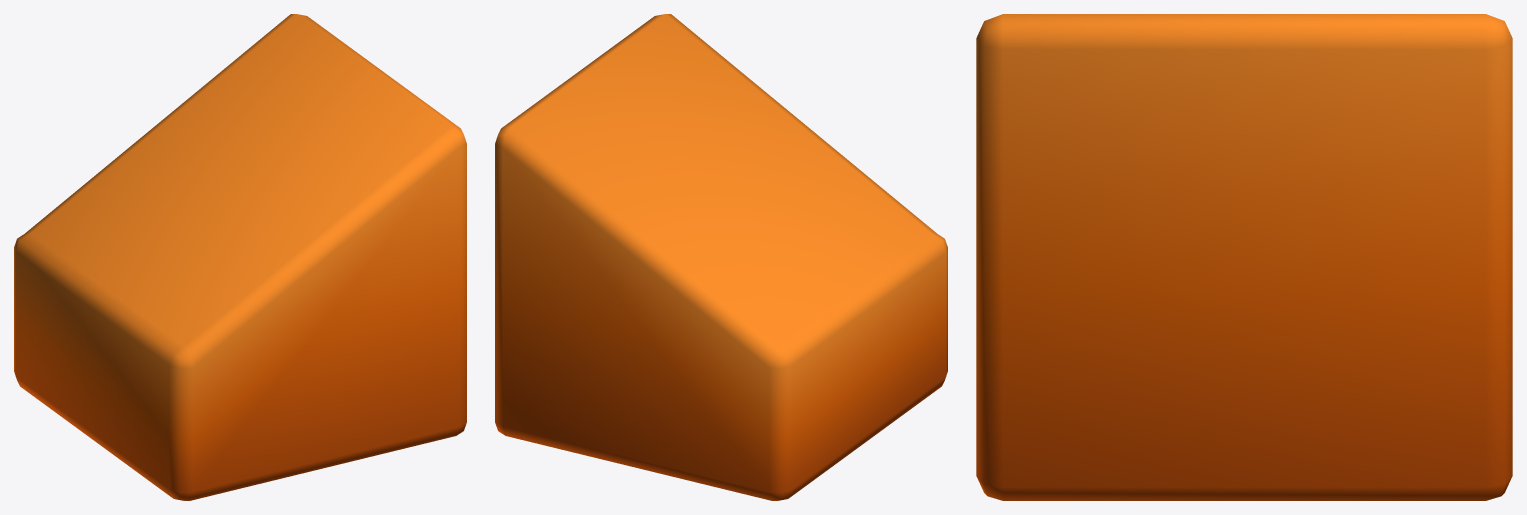
File: 3D_Tile_Ground_Slope_03A.fbx
3 views of the same model, side by side, from view 1: azimuth 30°, elevation 25°; view 2: azimuth 150°, elevation 25°; view 3: azimuth 270°, elevation 25° (orthographic). The views are drawn at different scales.
Visible parts, largest first — view 1: 3D_Tile_Ground_Slope_03A; view 2: 3D_Tile_Ground_Slope_03A; view 3: 3D_Tile_Ground_Slope_03A.
Part boxes in pixels (x1,y1,x2,y2): 3D_Tile_Ground_Slope_03A: (14, 14, 466, 500); 3D_Tile_Ground_Slope_03A: (495, 14, 947, 500); 3D_Tile_Ground_Slope_03A: (976, 14, 1512, 500).
Size of the model in its own units: 200 by 200 by 200.
